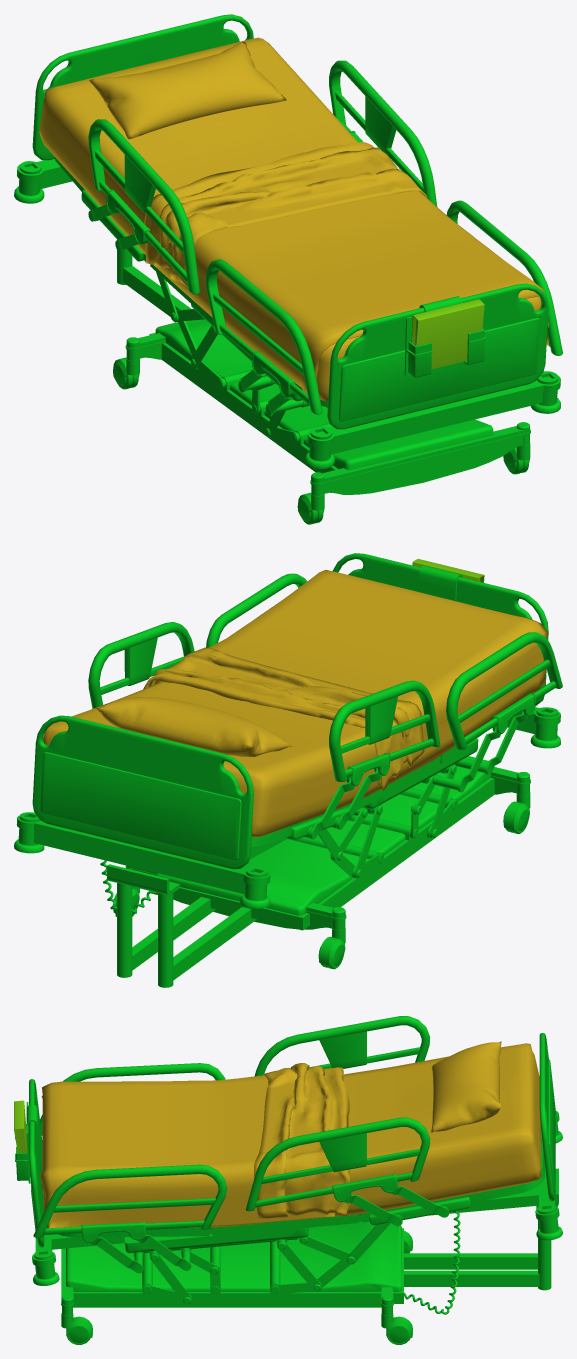
Rendered from Bed_1.fbx.
The picture shows the model from 3 angles, top to bottom: view 1: azimuth 30°, elevation 25°; view 2: azimuth 150°, elevation 25°; view 3: azimuth 270°, elevation 25°; orthographic projection. The views are drawn at different scales.
Parts seen in each view (by area): view 1: Bed_1, Pillow, Folder; view 2: Bed_1, Pillow; view 3: Bed_1, Pillow, Folder.
Part boxes in pixels (x1,y1,x2,y2): Bed_1: (14, 14, 562, 524); Pillow: (89, 42, 286, 139); Folder: (411, 299, 484, 369); Bed_1: (14, 553, 562, 987); Pillow: (96, 697, 292, 756); Bed_1: (15, 1016, 562, 1344); Pillow: (431, 1041, 501, 1132); Folder: (14, 1100, 27, 1153).
Size of the model in its own units: 111 by 112 by 240.
